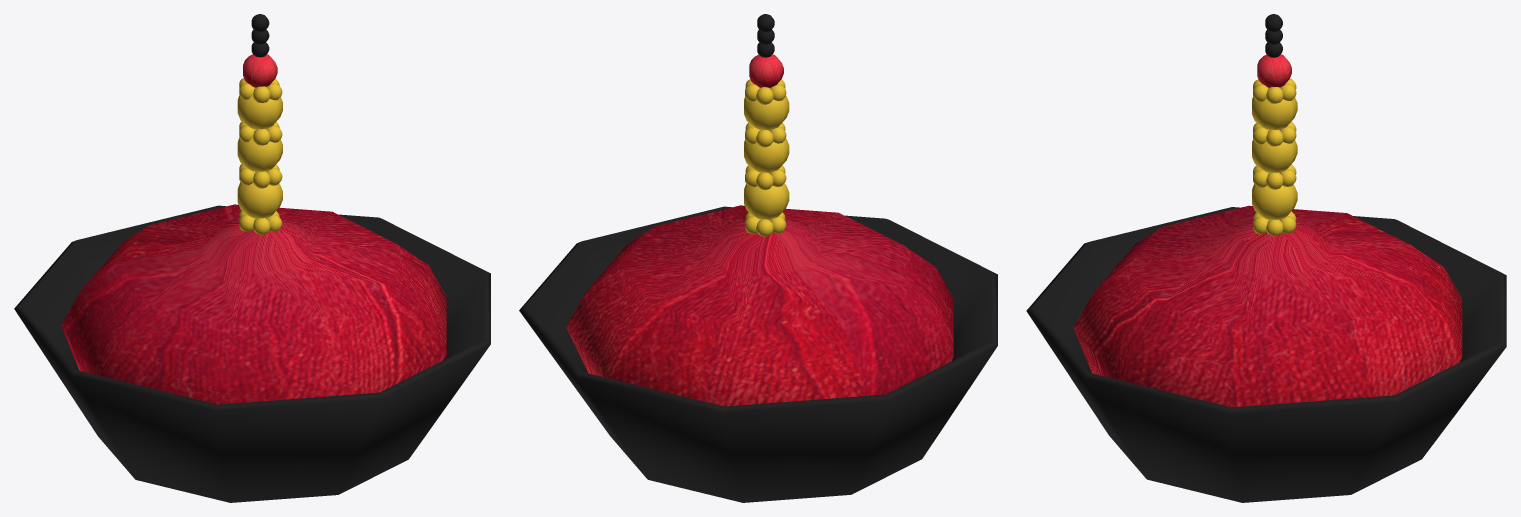
The model's file is hat.glb.
3 renders of one model, left to right at view 1: azimuth 30°, elevation 25°; view 2: azimuth 150°, elevation 25°; view 3: azimuth 270°, elevation 25°, orthographic.
Parts seen in each view (by area): view 1: Sphere, Sphere.001, Sphere.050, Sphere.047, Sphere.056; view 2: Sphere, Sphere.001, Sphere.050, Sphere.047, Sphere.056; view 3: Sphere, Sphere.001, Sphere.050, Sphere.047, Sphere.056.
Part boxes in pixels (box(x1,y1,x2,y2)): Sphere: box(61, 204, 446, 404); Sphere.001: box(14, 205, 490, 502); Sphere.050: box(237, 78, 282, 234); Sphere.047: box(243, 54, 277, 87); Sphere.056: box(251, 14, 269, 57); Sphere: box(566, 205, 953, 406); Sphere.001: box(519, 206, 997, 502); Sphere.050: box(744, 79, 789, 236); Sphere.047: box(749, 54, 783, 87); Sphere.056: box(757, 14, 774, 57); Sphere: box(1074, 205, 1462, 407); Sphere.001: box(1026, 207, 1506, 502); Sphere.050: box(1252, 78, 1297, 236); Sphere.047: box(1257, 54, 1291, 87); Sphere.056: box(1265, 14, 1282, 57).
Bounding box in the file's own units: 3.07 × 2.94 × 3.03.
3 materials, 1 textured.
